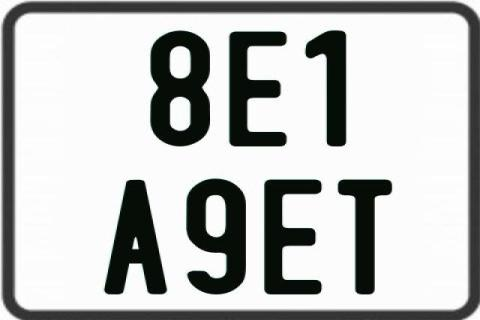0: (150, 29, 210, 145), (183, 177, 243, 293), (304, 28, 348, 148)
A: (102, 178, 170, 296)
E: (228, 31, 288, 149), (261, 178, 322, 294)
T: (337, 179, 396, 297)
